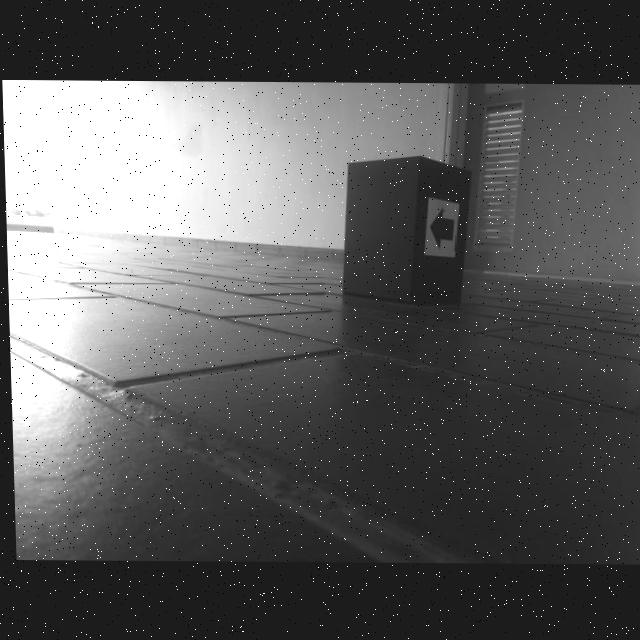LEFT: (428, 206, 454, 251)
